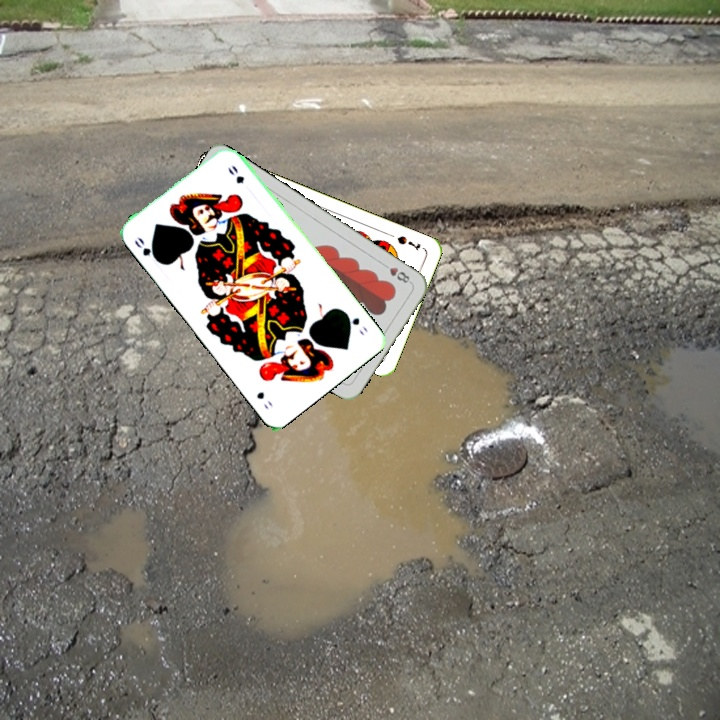GO: (130, 233, 161, 264), (340, 308, 370, 338)
H8: (378, 259, 414, 286)
S7: (393, 232, 423, 253)
